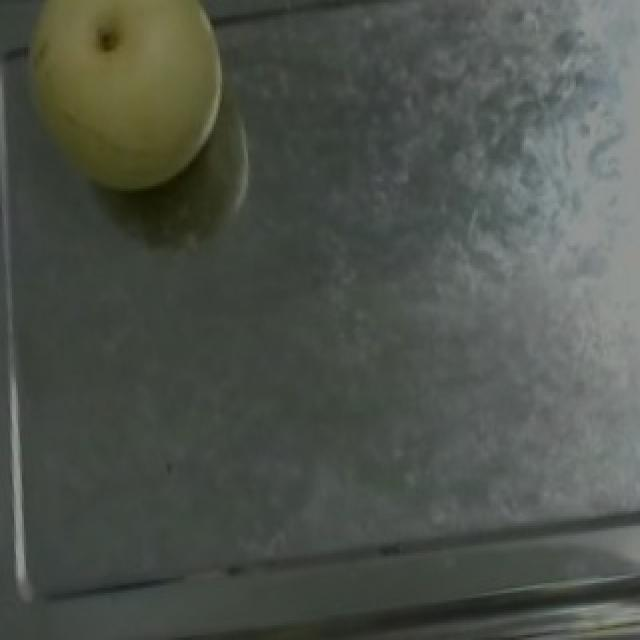Fruit: (0, 0, 238, 211)
